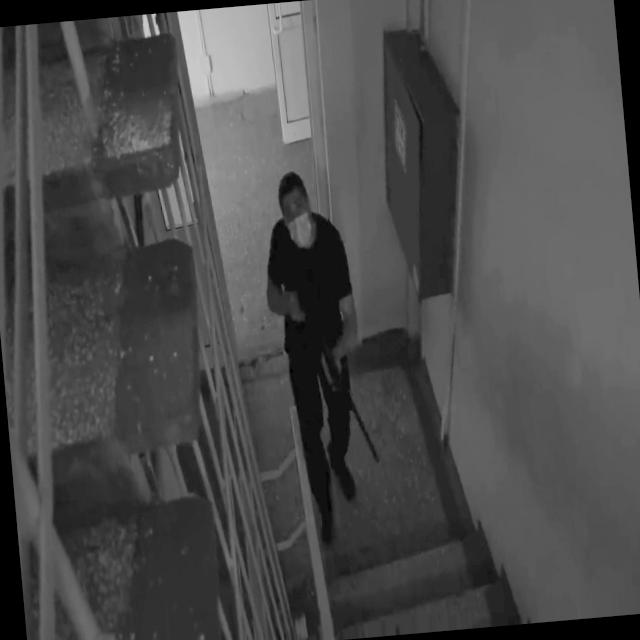gun: (294, 277, 381, 470)
person with a gun: (256, 165, 388, 548)
